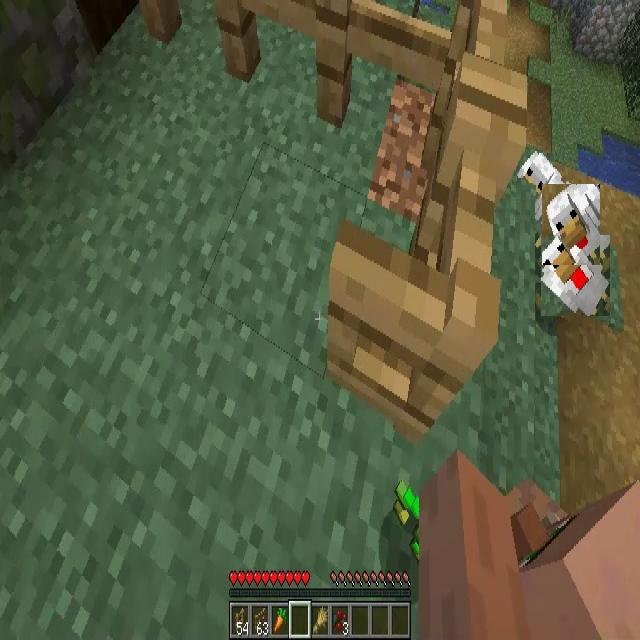duck: (541, 235, 610, 316), (542, 184, 600, 265), (517, 153, 558, 194)
